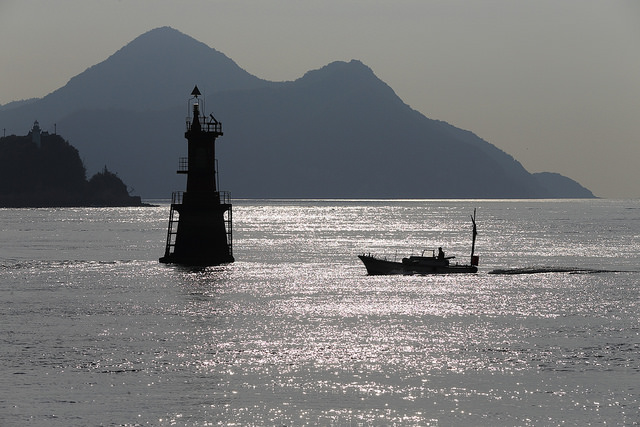fishing_boat: (358, 222, 485, 277)
